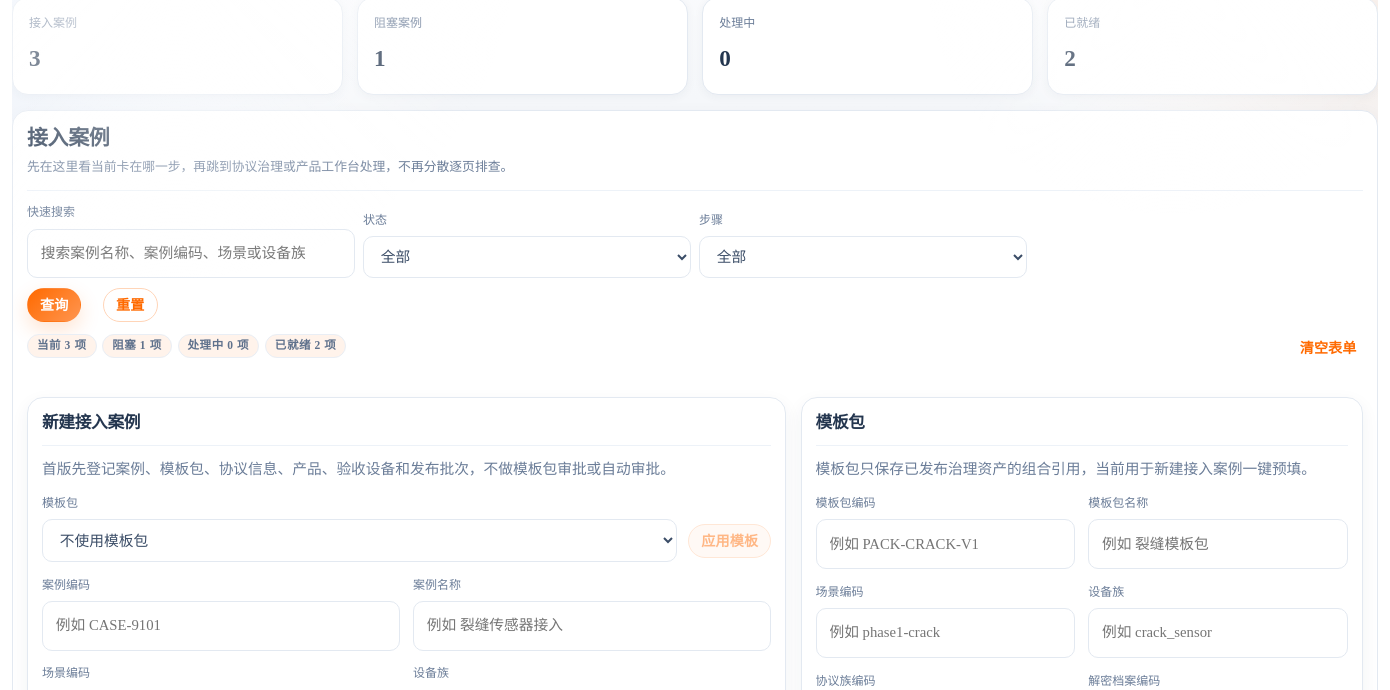
Test: DeviceOnboardingWorkbenchView › applies template pack defaults into the onboarding case form
Select "裂缝模板包 / PACK-CRACK-V1" in the dropdown with test id "template-pack-select": (360, 541) [42,519,677,562]
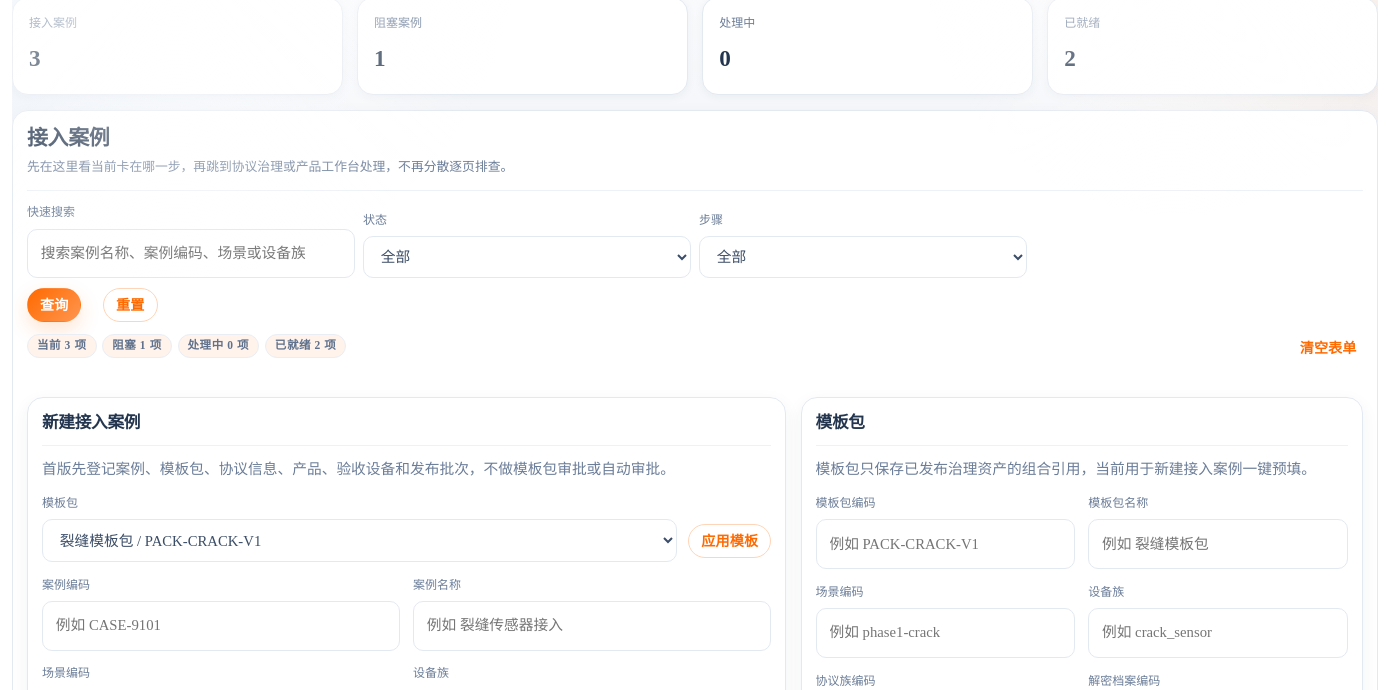
Click the button with test id "apply-template-pack": (730, 541) [688,524,771,558]
(page scrolled)
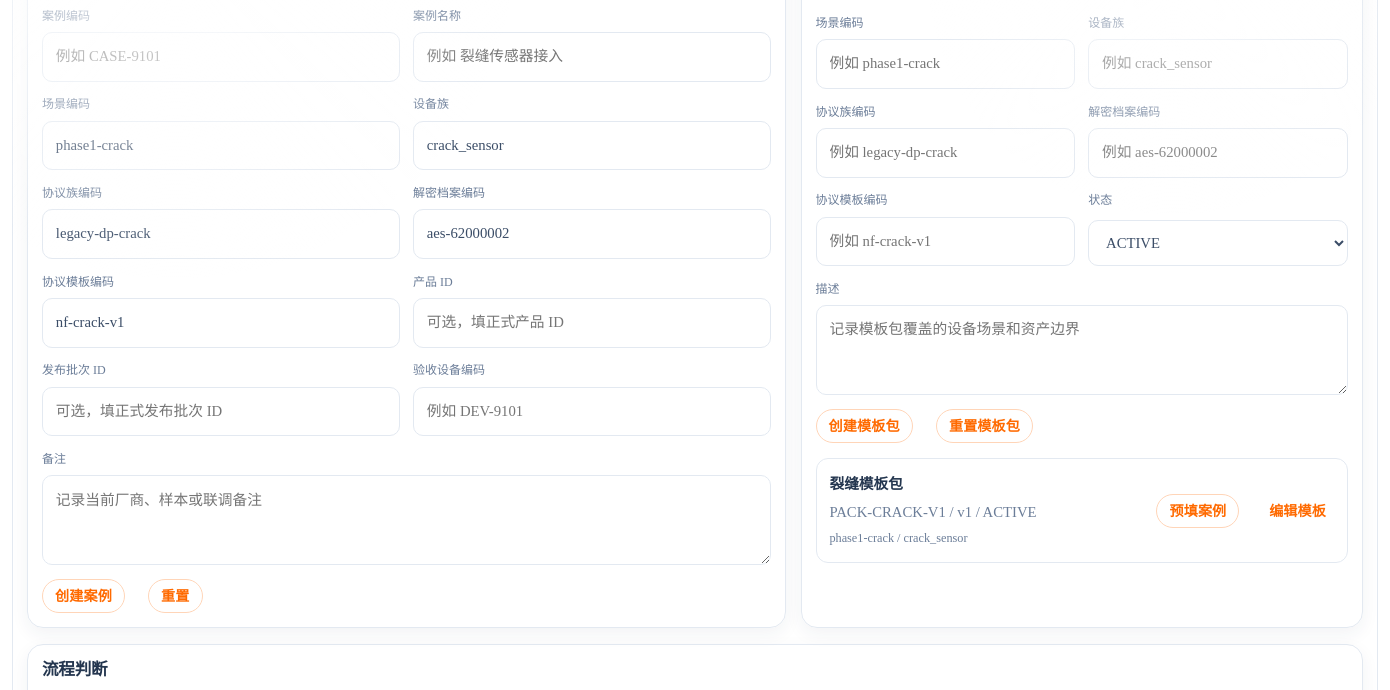
expect the field with test id "onboarding-scenario-code" holds "phase1-crack": met, box [42,120,400,170]
expect the field with test id "onboarding-device-family" holds "crack_sensor": met, box [413,120,771,170]
expect the field with test id "onboarding-protocol-family-code" holds "legacy-dp-crack": met, box [42,209,400,259]
